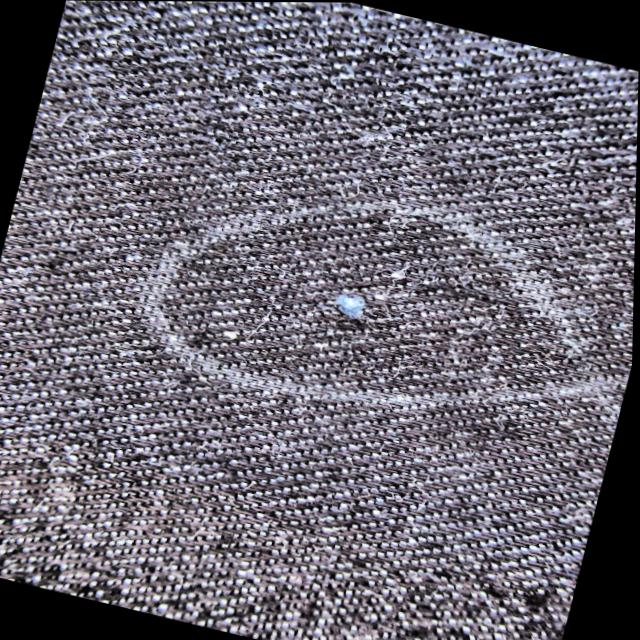Hole: (301, 270, 415, 340)
